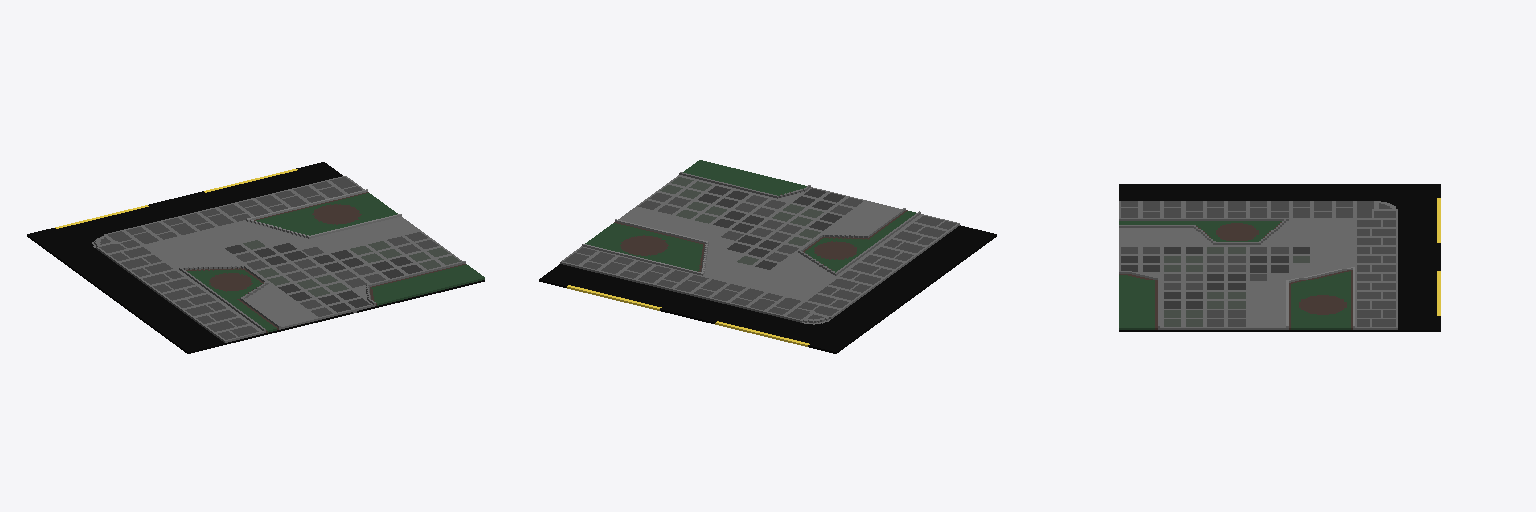
3 renders of one model, left to right at view 1: azimuth 30°, elevation 25°; view 2: azimuth 150°, elevation 25°; view 3: azimuth 270°, elevation 25°, orthographic.
Visible parts, largest first — view 1: Content.001; view 2: Content.001; view 3: Content.001.
Part boxes in pixels (x1,y1,x2,y2): Content.001: (27,162,484,353); Content.001: (539,160,996,353); Content.001: (1119,184,1440,331).
Size of the model in its own units: 24 by 0.45 by 22.5.
Materials: 1 (1 with a texture image).